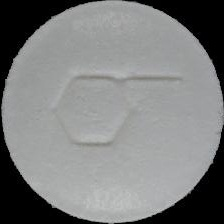0555-0872: (0, 0, 224, 224)
